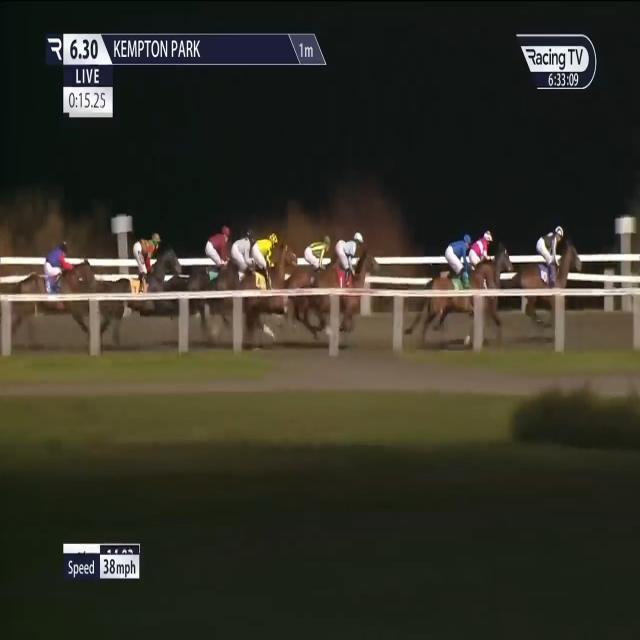horses-racing: (16, 236, 93, 360), (164, 223, 233, 346), (102, 226, 185, 328), (310, 219, 379, 337), (425, 226, 481, 332), (520, 212, 574, 320), (282, 225, 334, 331), (456, 226, 514, 318), (206, 230, 263, 320), (236, 226, 287, 311)
